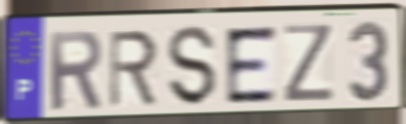3: (346, 17, 391, 106)
E: (222, 22, 280, 107)
R: (45, 28, 105, 114), (107, 27, 160, 111)
S: (166, 24, 219, 110)
Z: (281, 21, 338, 105)
